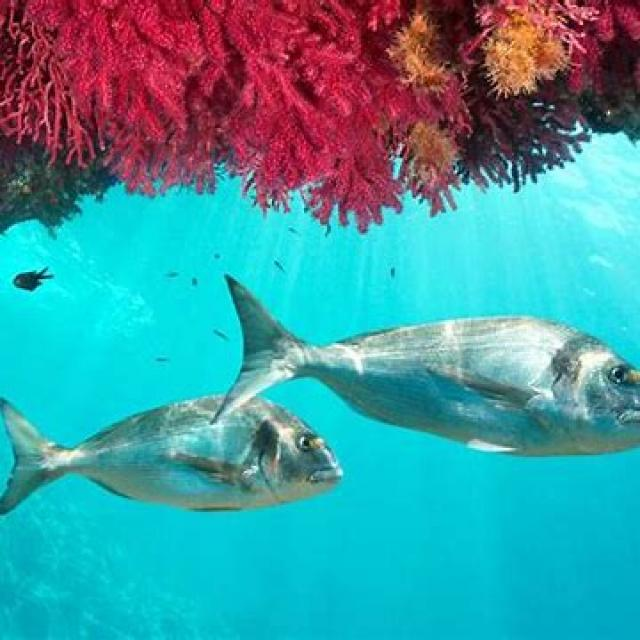Healthy Fish: (216, 269, 640, 453), (1, 365, 348, 556)
